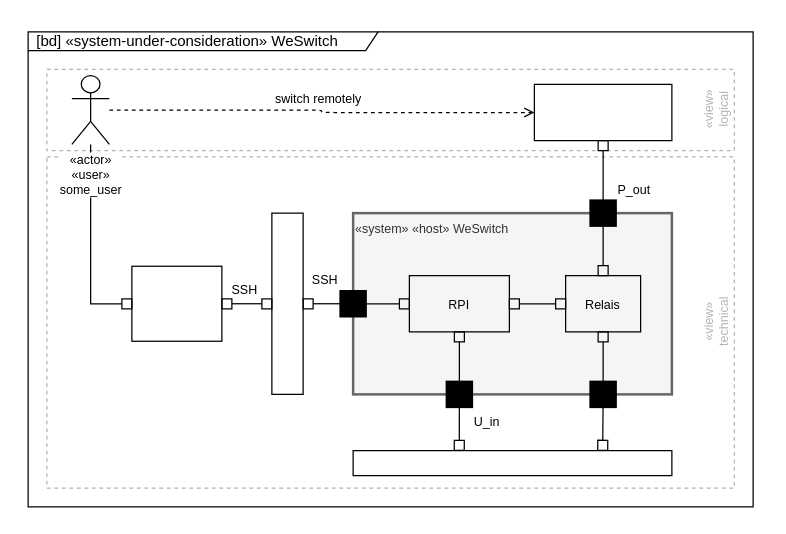
Some shapes in this 786 by 534 pixel diagram are drawn without their labels. The shapes that lost their labels are listed below. From the top down, each one's box as (x1, y1, x2, y2) in pixels, then its label:
(533, 83, 672, 141): «neighbor» some_electrical_device
(131, 265, 222, 341): «neighbor» «host» some_host
(271, 212, 303, 394): «neighbor» wired LAN
(589, 380, 616, 408): P_in
(352, 449, 672, 476): «neighbor» domestic power supply
